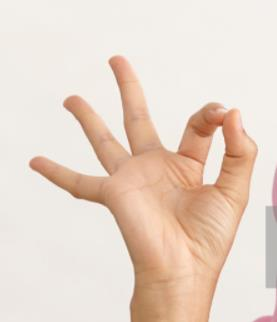left: (24, 53, 261, 280)
